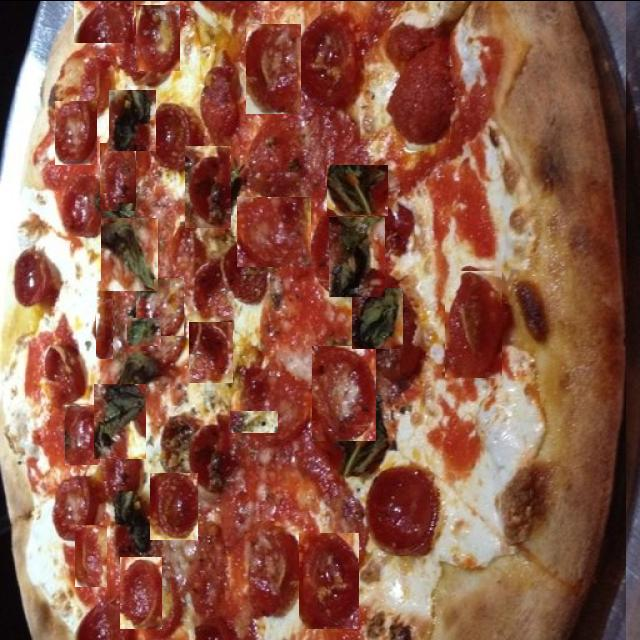basil: (329, 216, 385, 296), (101, 217, 158, 290), (94, 383, 146, 458), (352, 287, 403, 348), (327, 164, 388, 215), (109, 89, 156, 150), (198, 426, 240, 486), (230, 409, 278, 432), (127, 317, 161, 345)
pepperoni: (445, 268, 502, 376), (312, 345, 376, 440), (367, 87, 436, 174), (299, 532, 359, 628), (237, 196, 311, 266), (246, 23, 301, 113), (360, 263, 416, 348), (185, 145, 231, 227), (150, 472, 198, 539), (120, 556, 162, 628), (136, 4, 180, 70), (136, 277, 184, 335), (55, 100, 97, 164), (189, 321, 233, 382), (74, 0, 134, 42), (224, 338, 264, 400), (100, 142, 136, 210), (40, 241, 84, 293), (56, 182, 98, 236), (112, 67, 151, 124), (65, 404, 100, 464), (75, 524, 107, 586), (14, 336, 48, 391), (96, 298, 113, 358)
pizza: (0, 0, 626, 640)
